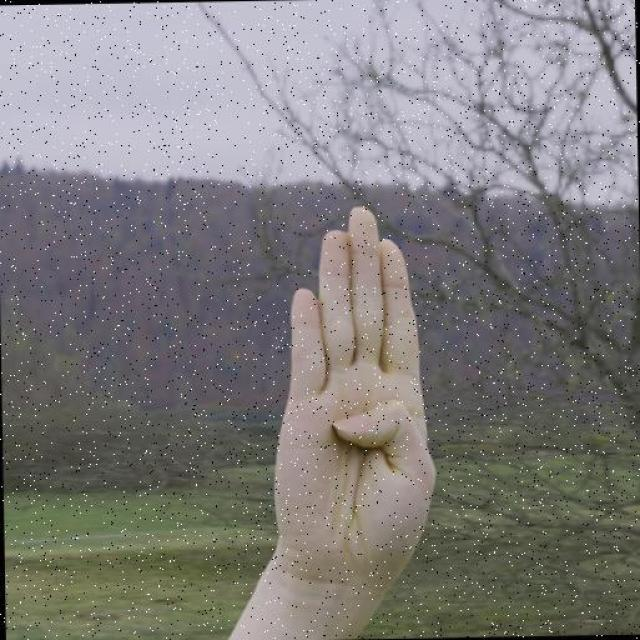B: (263, 202, 447, 597)
